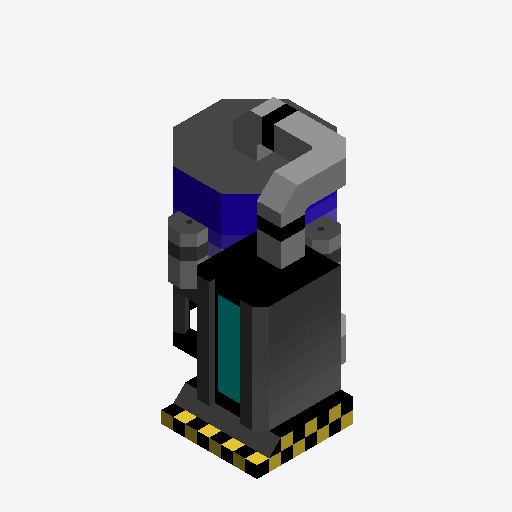
A Minecraft block model of 85 cuboids, rendered isometrically (azimuth 45°, elevation 35.3°) with the resource pack's own textures.
Visible parts, largest first — element 4, element 1, element 80, element 9, element 39, element 84, element 6, element 3, element 7, element 85, element 2, element 40 (+12 smaller).
Part boxes in pixels (x1,y1,x2,y2): element 4: (198, 231, 340, 430); element 1: (161, 403, 352, 478); element 80: (250, 97, 344, 160); element 9: (209, 275, 255, 416); element 39: (173, 159, 231, 258); element 84: (257, 201, 304, 268); element 6: (197, 271, 216, 405); element 3: (174, 383, 280, 457); element 7: (252, 298, 268, 430); element 85: (274, 150, 345, 206); element 2: (185, 376, 352, 450); element 40: (221, 184, 265, 250).
Bounding box in the file's own units: 15.83 × 16.42 × 16.